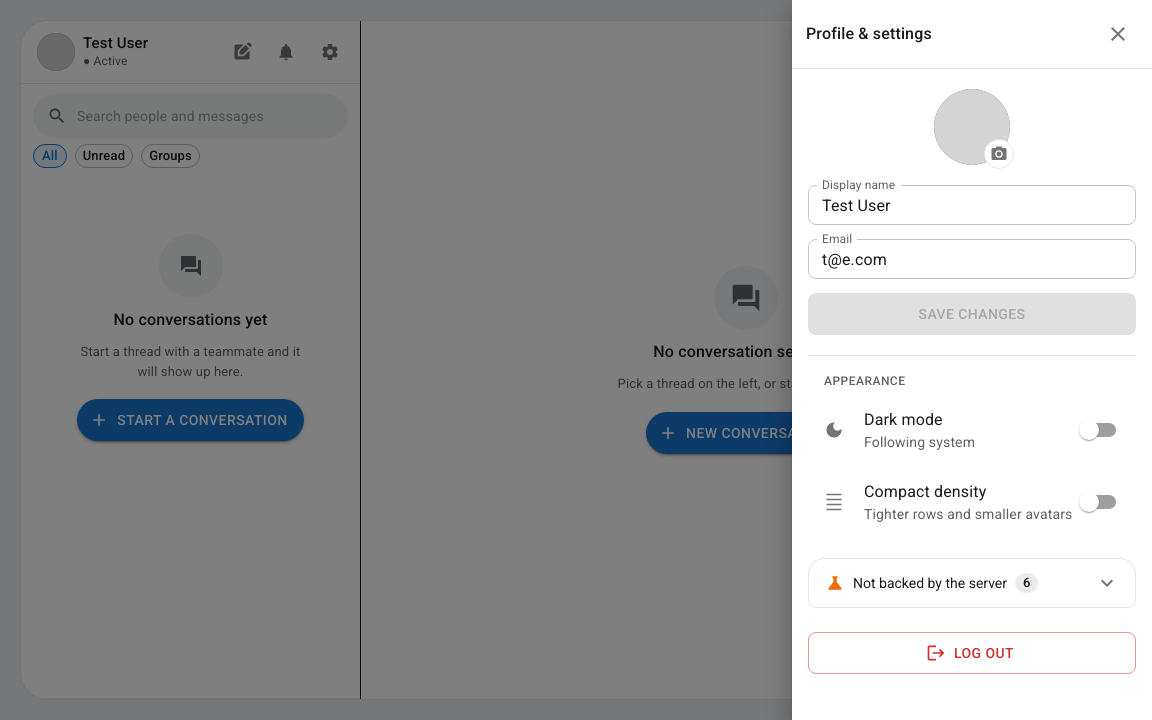
removing a profile photo › says so in a snackbar carrying an Undo, with no confirmation first
Expected: the text "Test User" is shown, top-left (83, 34), bottom-right (148, 52)
Step 1. Click the button named "profile photo options" → (999, 154), box top-left (984, 139), bottom-right (1014, 169)
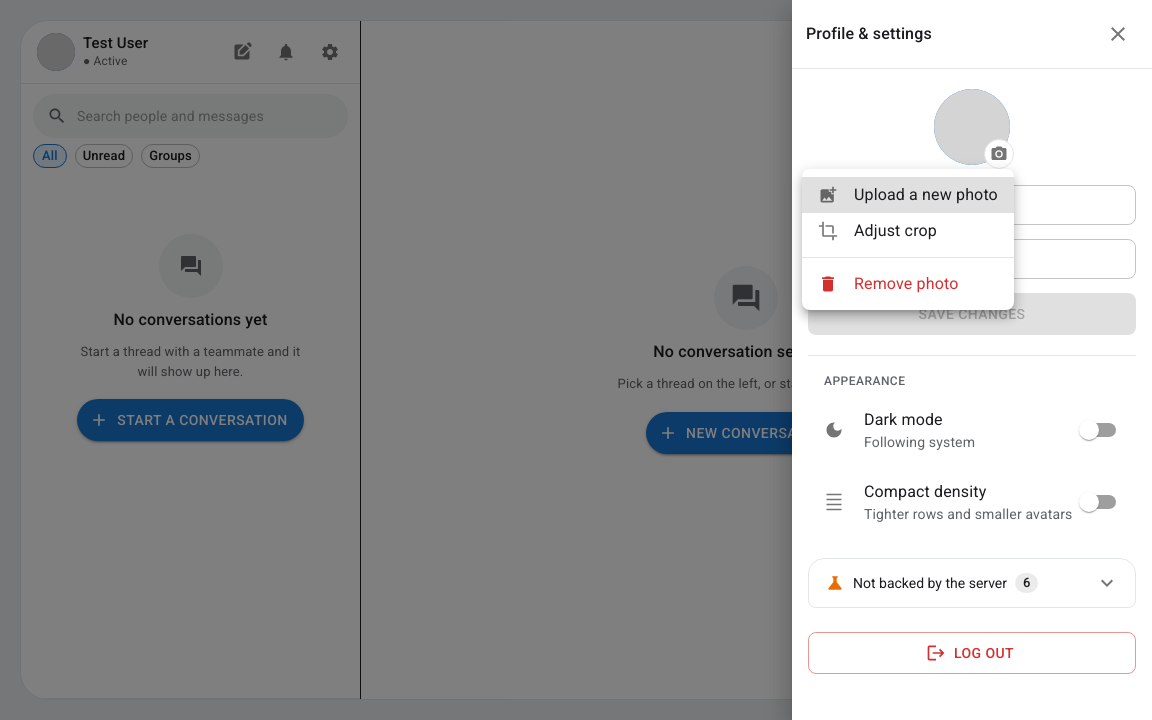
Step 2. Click the menu item "Remove photo" → (888, 284), box top-left (818, 274), bottom-right (958, 294)
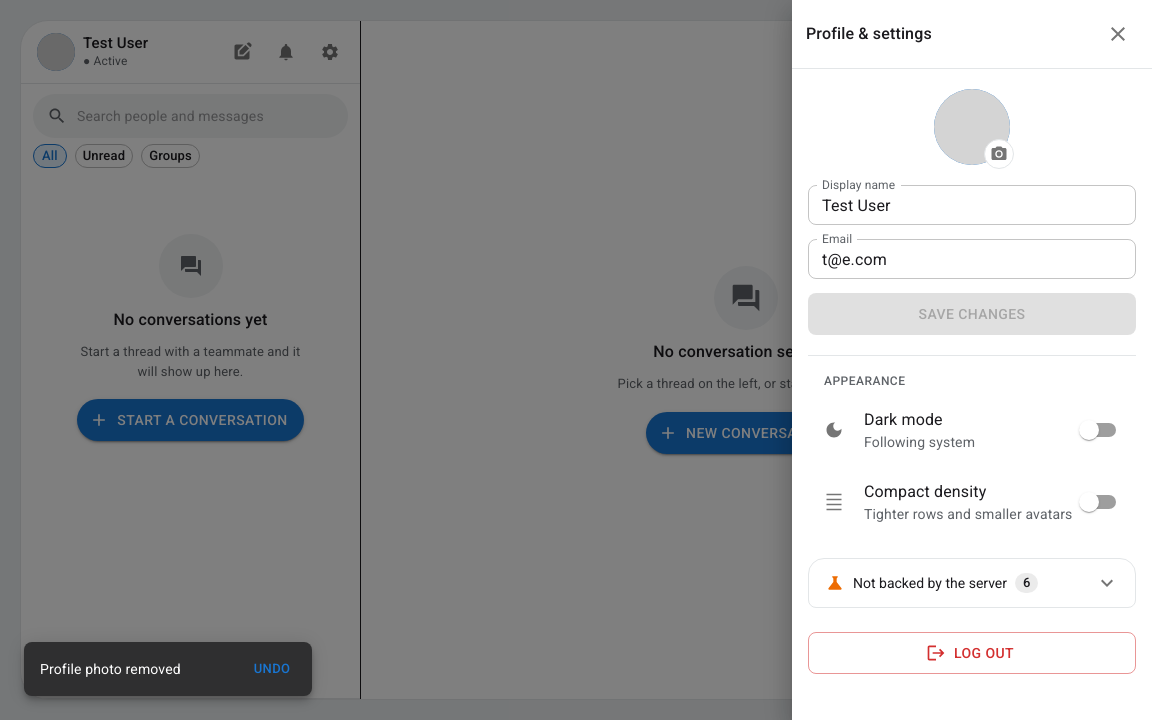
Expected: the text "Profile photo removed" is shown, top-left (40, 661), bottom-right (181, 677)
Expected: the button "Undo" is shown, top-left (240, 648), bottom-right (304, 690)
